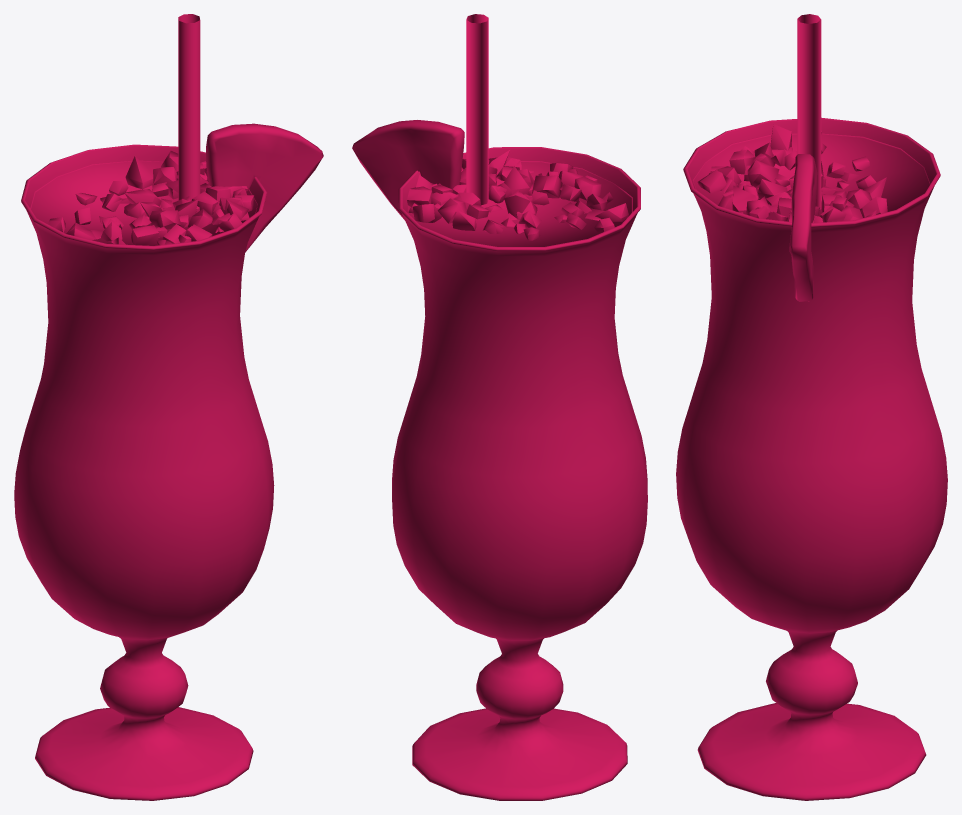
File: tropical drink1.fbx
3 views of the same model, side by side, from view 1: azimuth 30°, elevation 25°; view 2: azimuth 150°, elevation 25°; view 3: azimuth 270°, elevation 25° (orthographic). The views are drawn at different scales.
Visible parts, largest first — view 1: cylinder; view 2: cylinder; view 3: cylinder.
Part boxes in pixels (<box>): cylinder: <box>14,14,323,800</box>; cylinder: <box>352,14,647,800</box>; cylinder: <box>676,14,947,800</box>.
Size of the model in its own units: 5.03 by 12.28 by 4.
